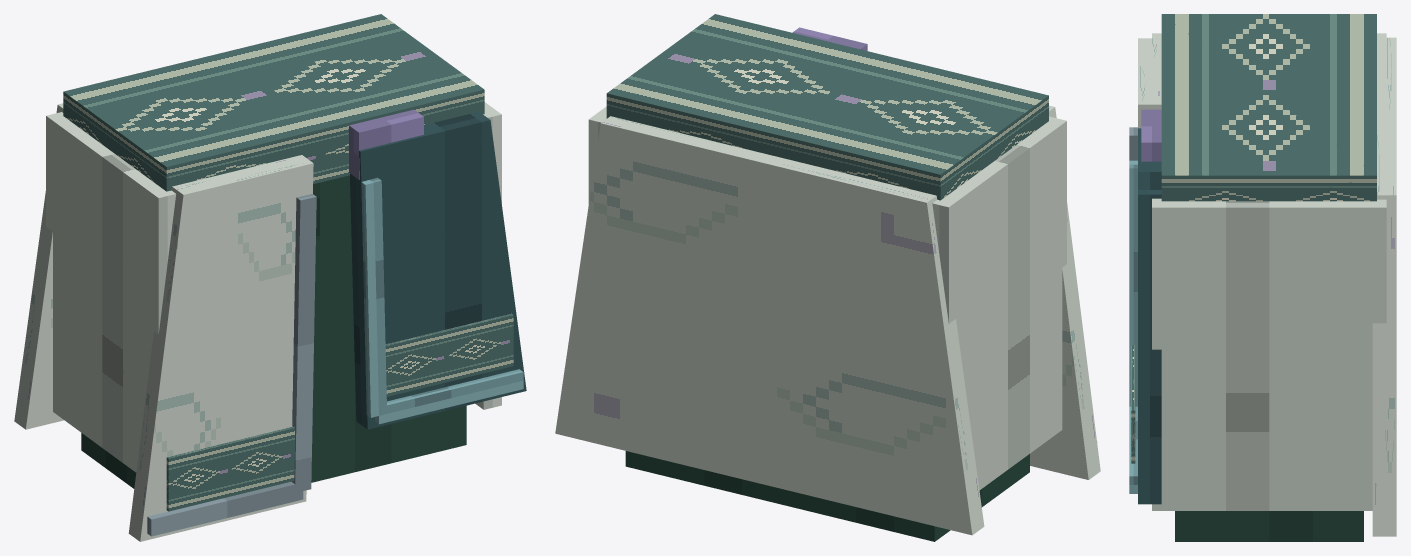
Rendered from huashen_taixu_leggings.obj.
The picture shows the model from 3 angles, left to right: view 1: azimuth 30°, elevation 25°; view 2: azimuth 150°, elevation 25°; view 3: azimuth 270°, elevation 25°; orthographic projection. The views are drawn at different scales.
Visible parts, largest first — view 1: cloud_waist, cloud_front_left, cloud_side_-1, cloud_front_right, cloud_trouser_1, void_front_hem, void_right_hem, left_hem_0, cloud_back, right_hem_0, left_hem_1, right_hem_1 (+4 smaller); view 2: cloud_back, cloud_waist, cloud_side_-1, cloud_front_left, cloud_trouser_-1, cloud_trouser_1, cloud_side_1; view 3: cloud_side_1, cloud_waist, cloud_back, cloud_front_right, cloud_trouser_1, right_hem_0, cloud_front_left, cloud_buckle, right_hem_1, void_right_hem.
Boxes of the visible parts, x1,y1,x2,y2 form: cloud_waist: (63, 14, 484, 191); cloud_front_left: (128, 155, 313, 541); cloud_side_-1: (46, 112, 176, 472); cloud_front_right: (350, 111, 526, 429); cloud_trouser_1: (322, 232, 466, 480); void_front_hem: (166, 426, 294, 511); void_right_hem: (385, 313, 513, 396); left_hem_0: (292, 194, 316, 492); cloud_back: (14, 103, 63, 429); right_hem_0: (361, 177, 386, 417); left_hem_1: (147, 481, 303, 536); right_hem_1: (375, 369, 523, 424); cloud_back: (555, 116, 984, 535); cloud_waist: (606, 14, 1048, 200); cloud_side_-1: (932, 116, 1066, 490); cloud_front_left: (1030, 105, 1100, 479); cloud_trouser_-1: (783, 454, 1029, 541); cloud_trouser_1: (625, 451, 782, 504); cloud_side_1: (588, 106, 606, 203); cloud_side_1: (1152, 198, 1386, 510); cloud_waist: (1161, 14, 1376, 201); cloud_back: (1372, 37, 1396, 536); cloud_front_right: (1138, 128, 1161, 504); cloud_trouser_1: (1175, 511, 1363, 541); right_hem_0: (1129, 160, 1137, 406); cloud_front_left: (1138, 38, 1161, 128); cloud_buckle: (1141, 109, 1161, 161); right_hem_1: (1129, 406, 1137, 493); void_right_hem: (1131, 345, 1135, 463).
Bounding box in the file's own units: 0.6875 × 0.5906 × 0.3841.
